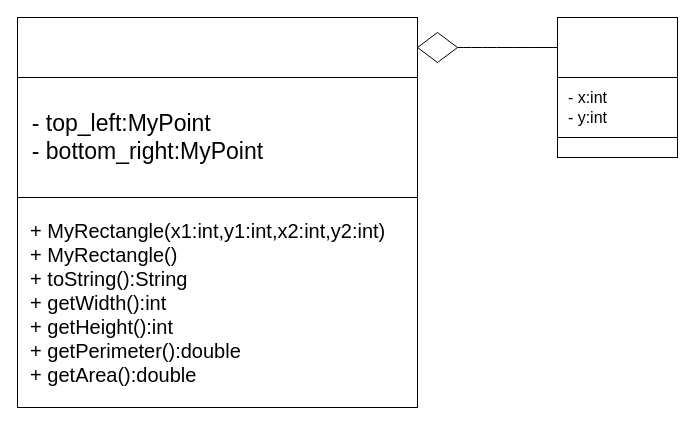
This 695x425 diagram has some shape labels left out. The shapes that lost their labels are listed below. From the top down, each one's centre as x and y in pixels, then its label:
At [217,47]: "MyRectangle".
At [617,47]: "MyPoint".
